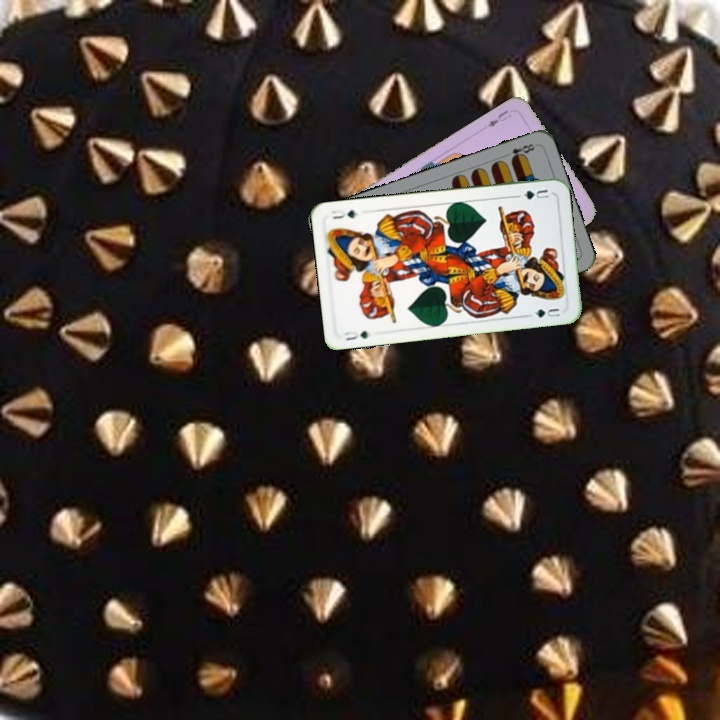E8: (500, 140, 537, 163)
EU: (483, 106, 514, 129)
GU: (340, 326, 374, 343), (519, 185, 551, 202)
